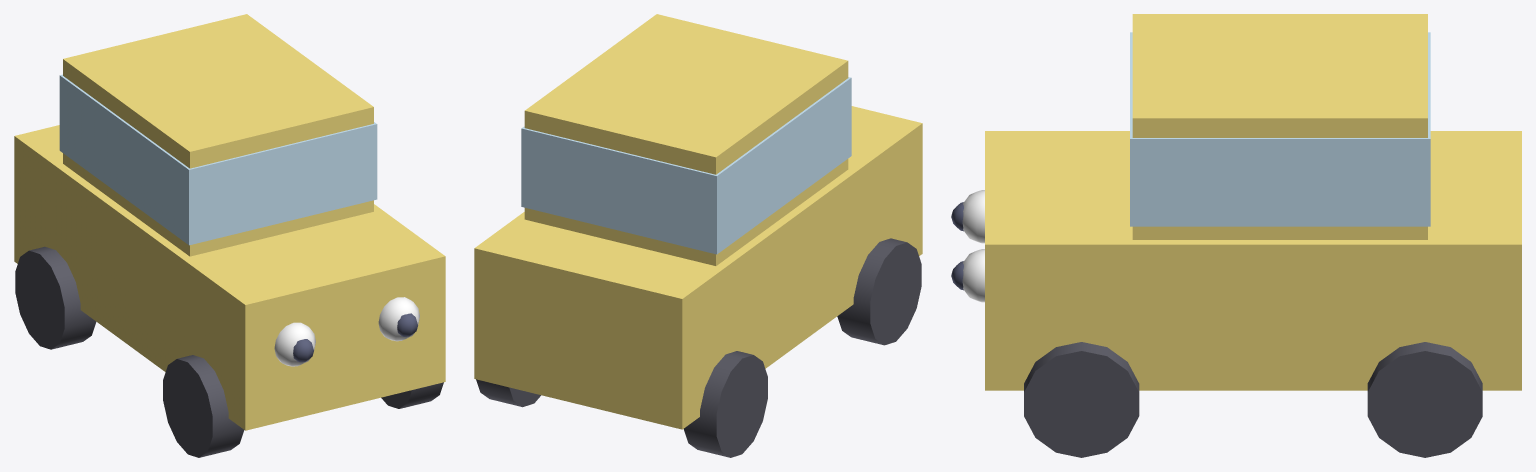
File: mobil1.glb
3 renders of one model, left to right at view 1: azimuth 30°, elevation 25°; view 2: azimuth 150°, elevation 25°; view 3: azimuth 270°, elevation 25°, orthographic. The views are drawn at different scales.
Parts seen in each view (by area): view 1: mobil1; view 2: mobil1; view 3: mobil1.
Part boxes in pixels (x1,y1,x2,y2): mobil1: (14,14,445,457); mobil1: (474,14,922,457); mobil1: (951,14,1521,457).
Size of the model in its own units: 0.58 by 0.67 by 1.06.
